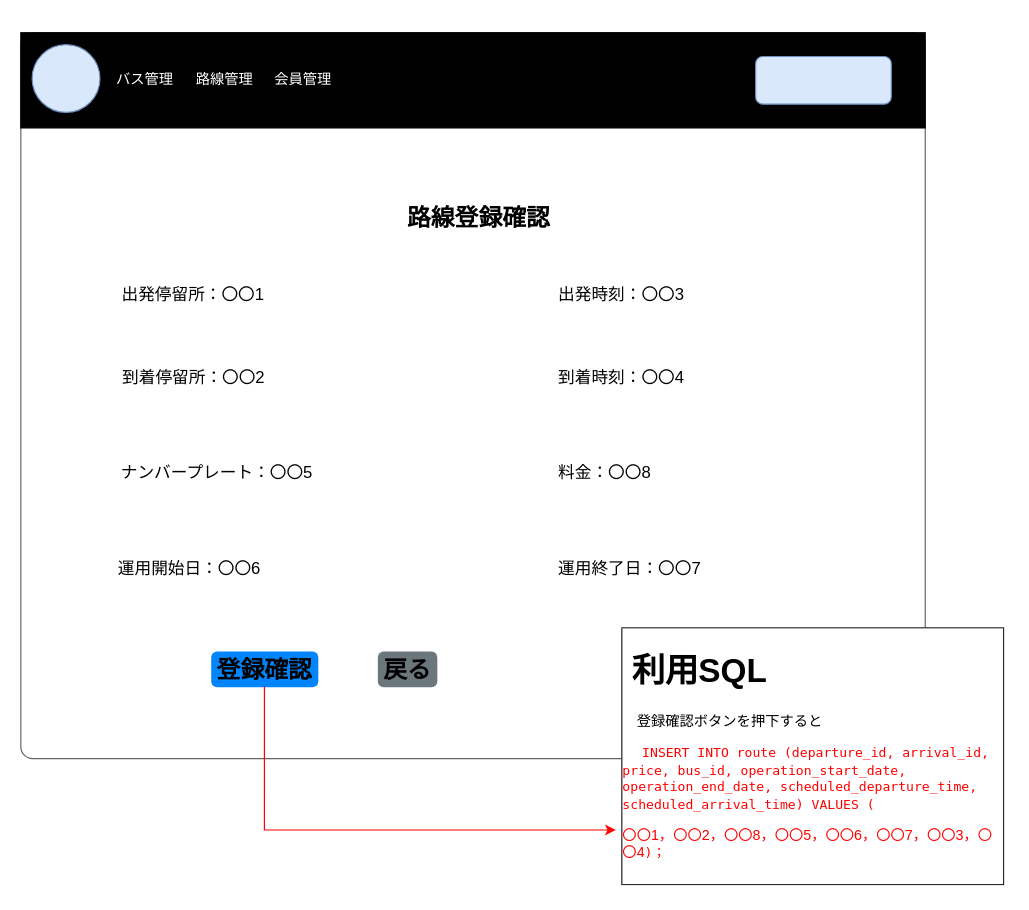
Some shapes in this 1029 by 910 pixel diagram are drawn without their labels. The shapes that lost their labels are listed below. From the top down, each one's box as (x1, y1, x2, y2) in pixels, then its label:
(31, 43, 100, 112): ロゴ
(754, 55, 891, 104): ログアウト
